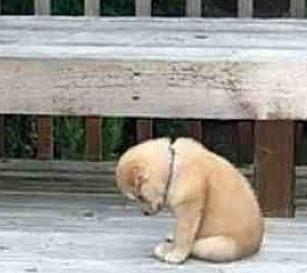puppy-dog: (113, 134, 265, 265)
